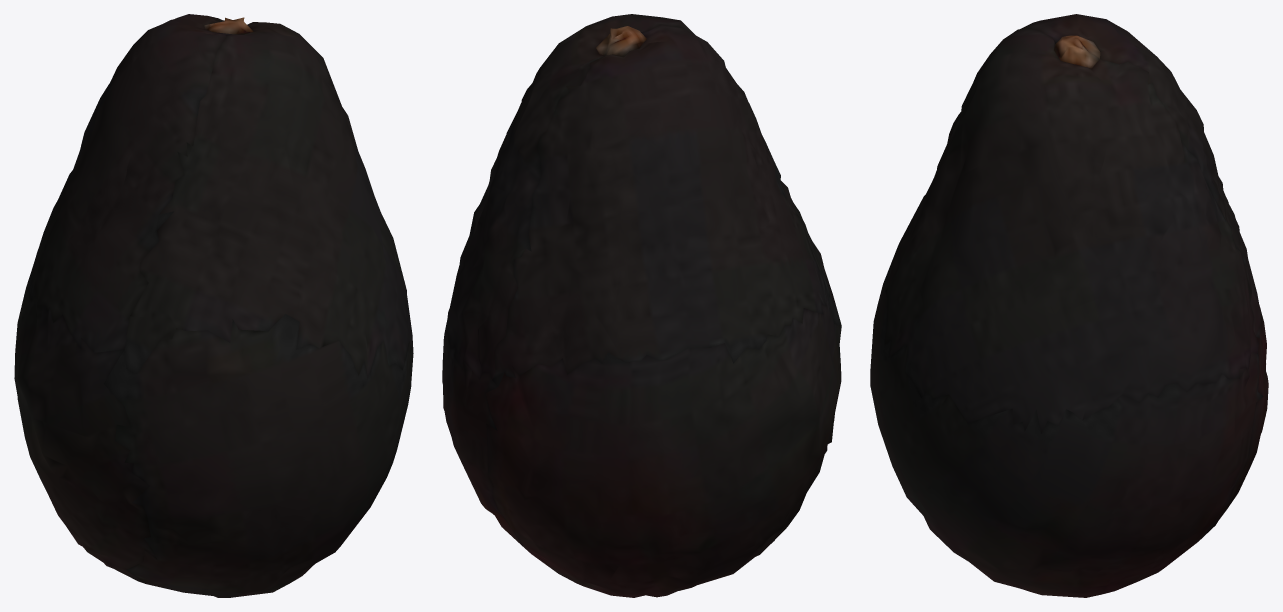
The model's file is avocado.glb.
The picture shows the model from 3 angles, left to right: view 1: azimuth 30°, elevation 25°; view 2: azimuth 150°, elevation 25°; view 3: azimuth 270°, elevation 25°; orthographic projection. The views are drawn at different scales.
Visible parts, largest first — view 1: food_avocado_01; view 2: food_avocado_01; view 3: food_avocado_01.
Boxes of the visible parts, bbox=[...] form: food_avocado_01: bbox=[14, 14, 413, 597]; food_avocado_01: bbox=[442, 14, 841, 597]; food_avocado_01: bbox=[870, 14, 1268, 597].
Size of the model in its own units: 0.0951 by 0.1431 by 0.0946.
1 material, 1 textured.
